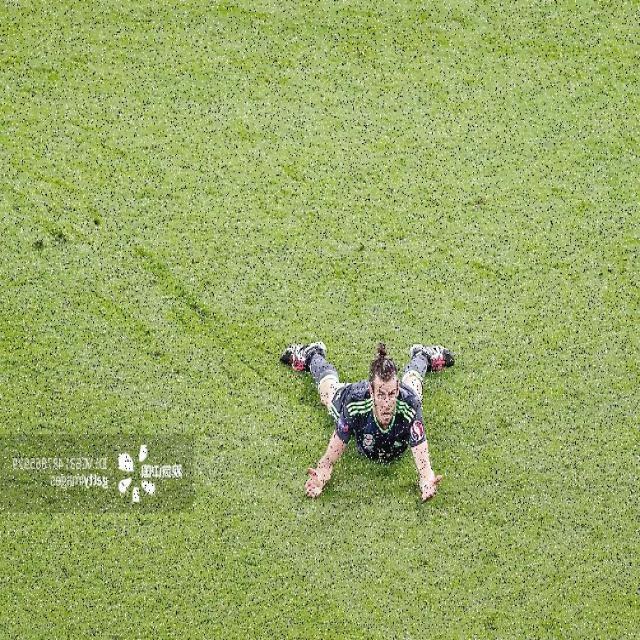fall: (274, 322, 446, 499)
